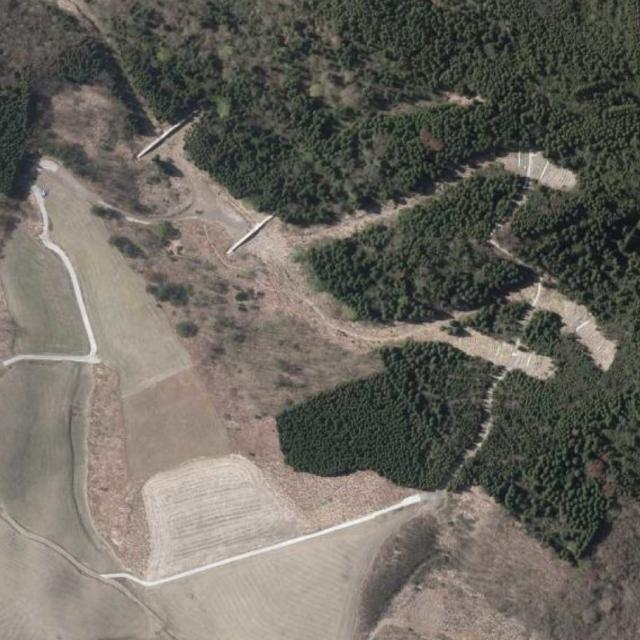landslide: (511, 285, 617, 371), (497, 150, 579, 191)
